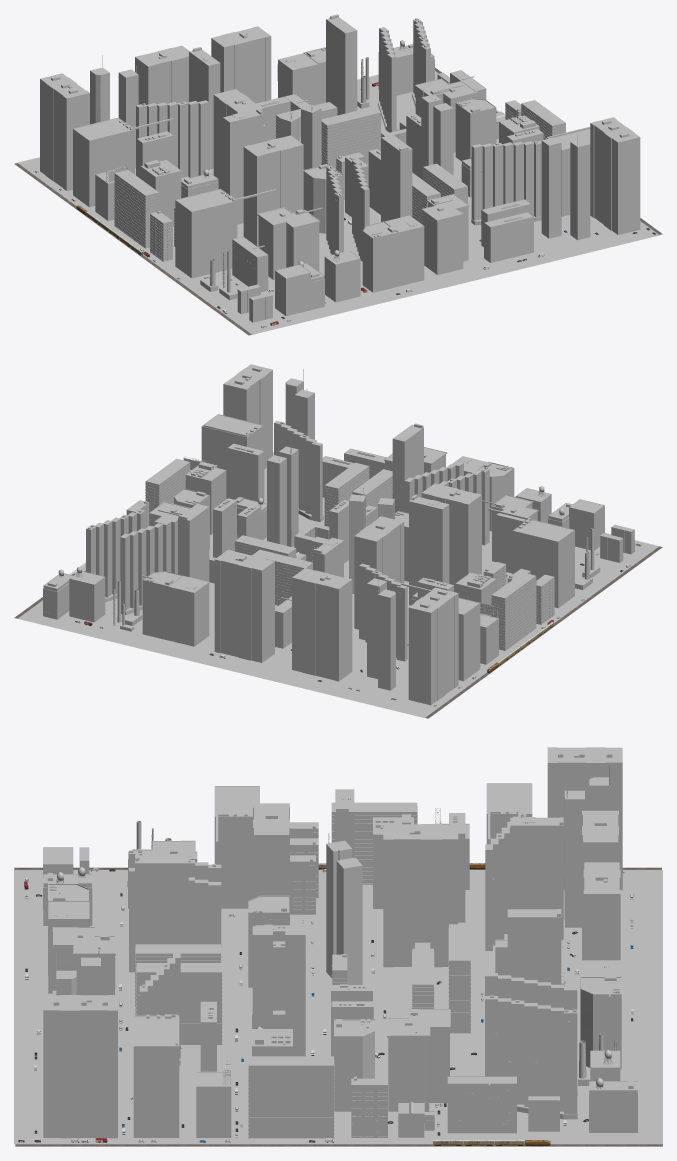
File: city.fbx
3 views of the same model, one above another, from view 1: azimuth 30°, elevation 25°; view 2: azimuth 150°, elevation 25°; view 3: azimuth 270°, elevation 25° (orthographic). The views are drawn at different scales.
Visible parts, largest first — view 1: Plane, Building2, Building2.005, Building3.002, Building12.002, Building2.003, Building12.005, Building3.001, Building2.002, building.018, building.012, Building1.001 (+50 smaller); view 2: Plane, Building2.002, Building2.004, Building2.003, Building3.002, Building1.002, Building12.001, Building2.005, Building2.001, Building2, building.007, Building12 (+45 smaller); view 3: Plane, Building2, Building2.001, Building12, Building5, building.001, Building3, Building1, Building1.003, Building3.002, Building2.003, Building10 (+49 smaller).
Boxes of the visible parts, box(x1,y1,x2,y2) form: Plane: box(18, 71, 659, 334); Building2: box(590, 117, 640, 234); Building2.005: box(243, 135, 303, 246); Building3.002: box(175, 189, 237, 278); Building12.002: box(471, 140, 541, 220); Building2.003: box(40, 73, 89, 190); Building12.005: box(136, 100, 208, 177); Building3.001: box(73, 117, 134, 207); Building2.002: box(211, 26, 271, 103); building.018: box(257, 207, 320, 279); building.012: box(421, 194, 469, 274); Building1.001: box(326, 17, 357, 115); Plane: box(18, 452, 658, 717); Building2.002: box(214, 549, 274, 662); Building2.004: box(292, 568, 352, 681); Building2.003: box(408, 587, 458, 705); Building3.002: box(512, 519, 574, 608); Building1.002: box(409, 497, 449, 605); Building12.001: box(120, 517, 177, 610); Building2.005: box(421, 483, 481, 592); Building2.001: box(354, 516, 404, 629); Building2: box(223, 364, 272, 468); building.007: box(168, 576, 209, 646); Building12: box(86, 509, 145, 597); Plane: box(14, 870, 662, 1144); Building2: box(43, 995, 117, 1138); Building2.001: box(383, 824, 458, 967); Building12: box(485, 996, 577, 1113); Building5: box(248, 1056, 334, 1138); building.001: box(387, 1009, 450, 1111); Building3: box(133, 1015, 179, 1137); Building1: box(510, 817, 563, 939); Building1.003: box(135, 855, 188, 1006); Building3.002: box(214, 786, 259, 908); Building2.003: box(547, 747, 622, 890); Building10: box(447, 1076, 516, 1133).
Bounding box in the file's own units: 40714 × 10379 × 40001.
